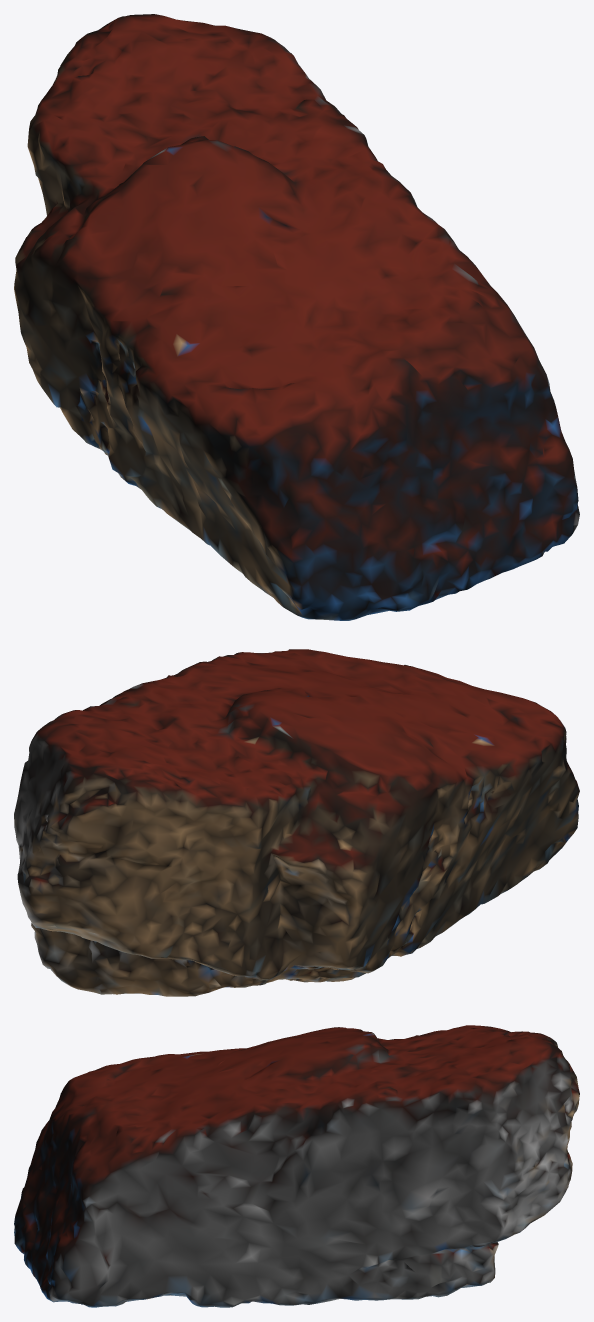
The model's file is rock_07.obj.
3 renders of one model, top to bottom at view 1: azimuth 30°, elevation 25°; view 2: azimuth 150°, elevation 25°; view 3: azimuth 270°, elevation 25°, orthographic. The views are drawn at different scales.
Visible parts, largest first — view 1: realCap_Model_3; view 2: realCap_Model_3; view 3: realCap_Model_3.
Boxes of the visible parts, x1,y1,x2,y2 form: realCap_Model_3: (14, 14, 579, 620); realCap_Model_3: (14, 649, 579, 996); realCap_Model_3: (14, 1025, 579, 1307).
Bounding box in the file's own units: 0.1689 × 0.1437 × 0.3203.
